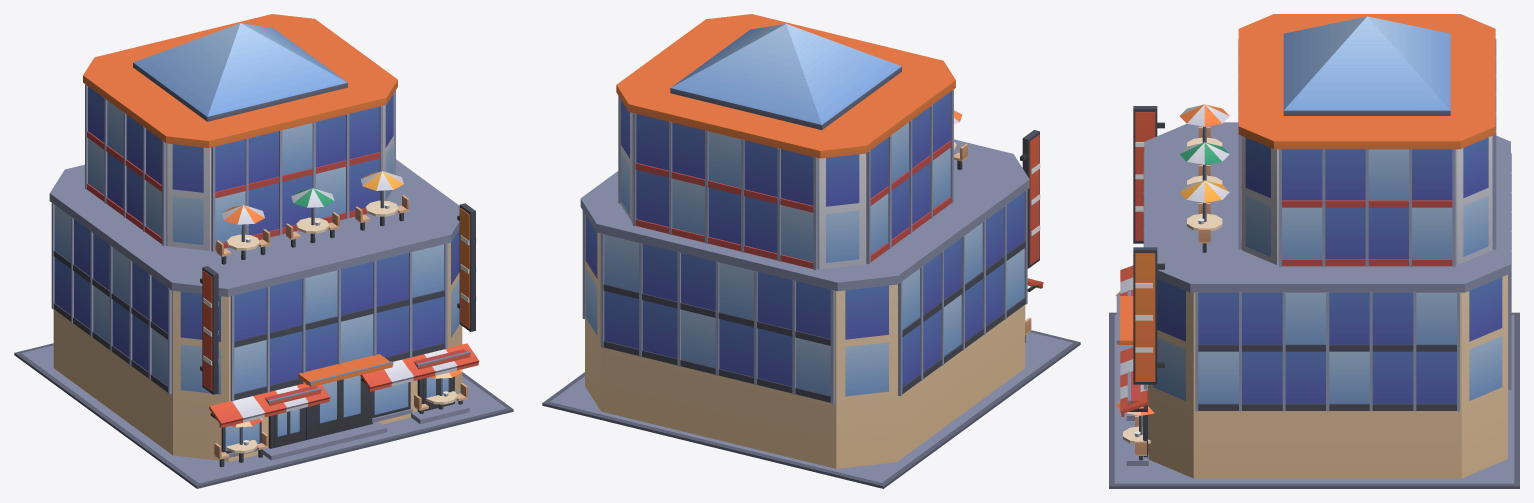
The model's file is com_atrium_department_2x2.glb.
3 views of the same model, side by side, from view 1: azimuth 30°, elevation 25°; view 2: azimuth 150°, elevation 25°; view 3: azimuth 270°, elevation 25° (orthographic). The views are drawn at different scales.
Parts seen in each view (by area): view 1: com_atrium_department_2x2; view 2: com_atrium_department_2x2; view 3: com_atrium_department_2x2.
Part boxes in pixels (x1=…): com_atrium_department_2x2: x1=14, y1=14, x2=513, y2=488; com_atrium_department_2x2: x1=542, y1=14, x2=1080, y2=488; com_atrium_department_2x2: x1=1109, y1=14, x2=1519, y2=488.
Size of the model in its own units: 3.74 by 3.88 by 3.74.
1 material, 1 textured.
